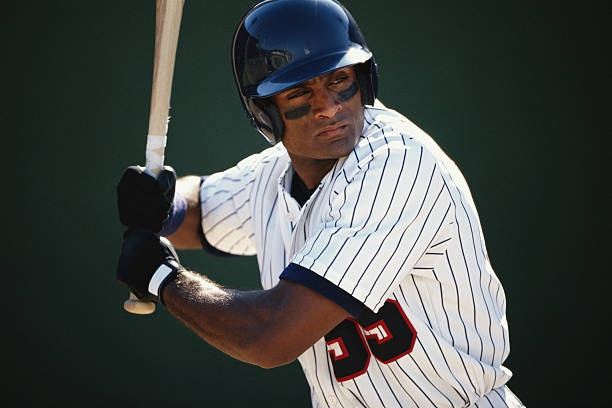bita: (117, 1, 185, 317)
